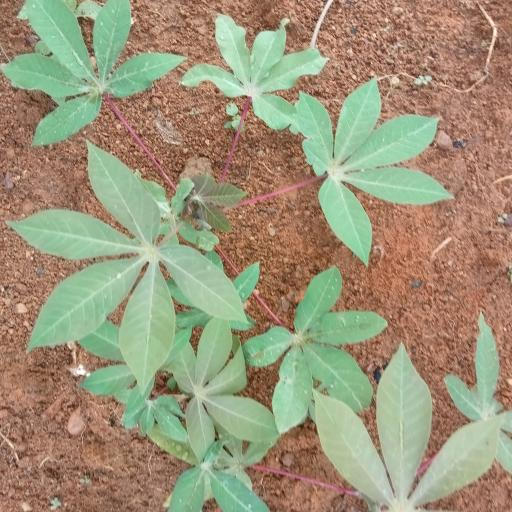Cassava_Mosaic: (12, 148, 240, 371), (5, 0, 176, 139), (252, 278, 380, 423), (190, 19, 315, 125)
